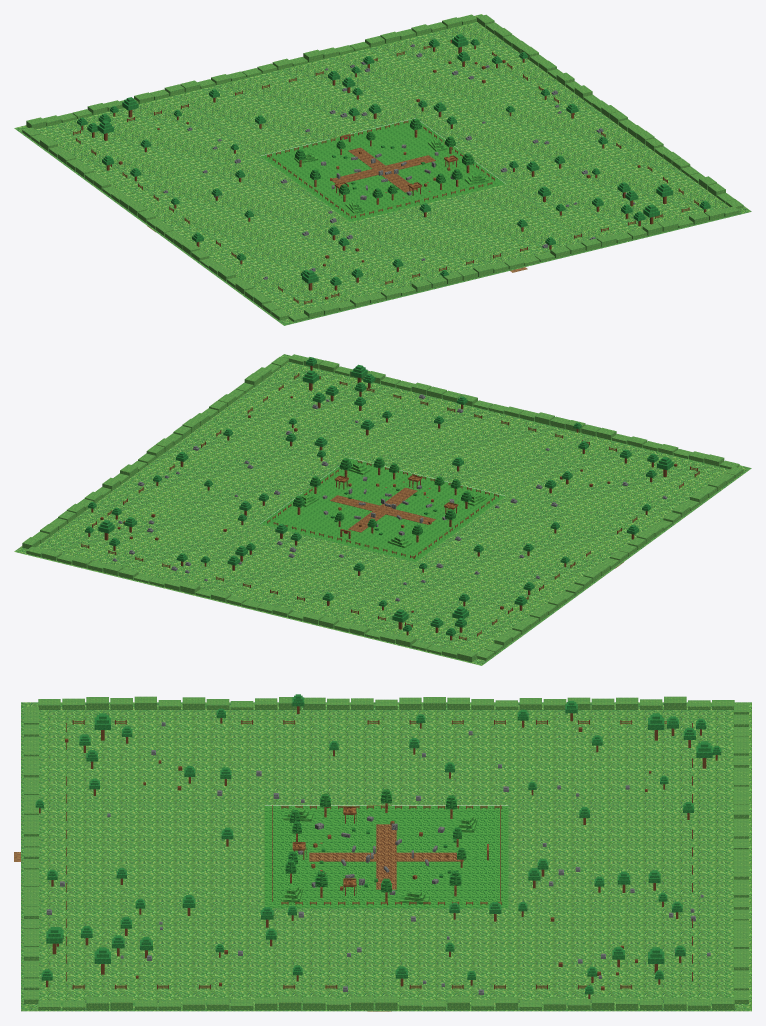
The model's file is hajimarinoheigen.gltf.
3 renders of one model, top to bottom at view 1: azimuth 30°, elevation 25°; view 2: azimuth 150°, elevation 25°; view 3: azimuth 270°, elevation 25°, orthographic. The views are drawn at different scales.
Visible parts, largest first — view 1: Scenery_GrassTerrain_001, Ground_BlockBase_Large, DirtPath_EastWest_Block_Large, DirtPath_NorthSouth_Block_Large; view 2: Scenery_GrassTerrain_001, Ground_BlockBase_Large, DirtPath_EastWest_Block_Large, DirtPath_NorthSouth_Block_Large; view 3: Scenery_GrassTerrain_001, Ground_BlockBase_Large, DirtPath_NorthSouth_Block_Large, DirtPath_EastWest_Block_Large.
Boxes of the visible parts, x1,y1,x2,y2 form: Scenery_GrassTerrain_001: (14, 14, 751, 325); Ground_BlockBase_Large: (260, 118, 505, 221); DirtPath_EastWest_Block_Large: (332, 155, 435, 184); DirtPath_NorthSouth_Block_Large: (348, 147, 417, 192); Scenery_GrassTerrain_001: (14, 354, 751, 665); Ground_BlockBase_Large: (260, 458, 505, 561); DirtPath_EastWest_Block_Large: (330, 495, 435, 524); DirtPath_NorthSouth_Block_Large: (348, 487, 417, 532); Scenery_GrassTerrain_001: (21, 696, 751, 1011); Ground_BlockBase_Large: (264, 805, 508, 908); DirtPath_NorthSouth_Block_Large: (309, 852, 463, 861); DirtPath_EastWest_Block_Large: (376, 824, 396, 889).
Size of the model in its own units: 486 by 19.42 by 491.
